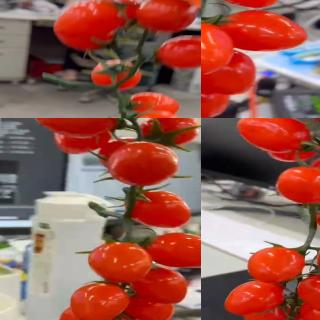tomato: (216, 9, 306, 53), (105, 141, 180, 188), (52, 5, 120, 51), (237, 118, 313, 154), (88, 242, 152, 284), (124, 189, 192, 228), (201, 51, 257, 95), (223, 280, 287, 317), (68, 282, 128, 320), (131, 266, 190, 304), (248, 247, 306, 284), (136, 0, 198, 34), (144, 232, 201, 268), (52, 122, 112, 156), (139, 118, 201, 149), (121, 285, 174, 320), (275, 164, 320, 204), (201, 21, 232, 77), (90, 59, 144, 90), (155, 34, 201, 68), (268, 133, 320, 163), (30, 118, 119, 134), (126, 91, 180, 117), (243, 297, 291, 320), (95, 0, 142, 23), (298, 271, 320, 311), (56, 306, 114, 320), (210, 0, 282, 11), (126, 110, 194, 118), (296, 298, 320, 320)
